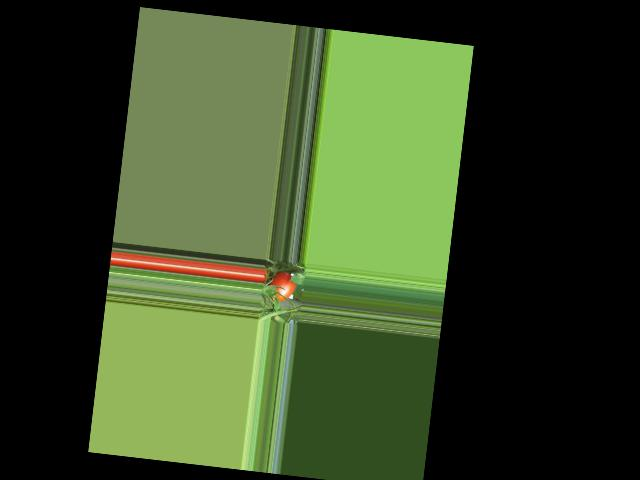tomato: (267, 270, 297, 302)
